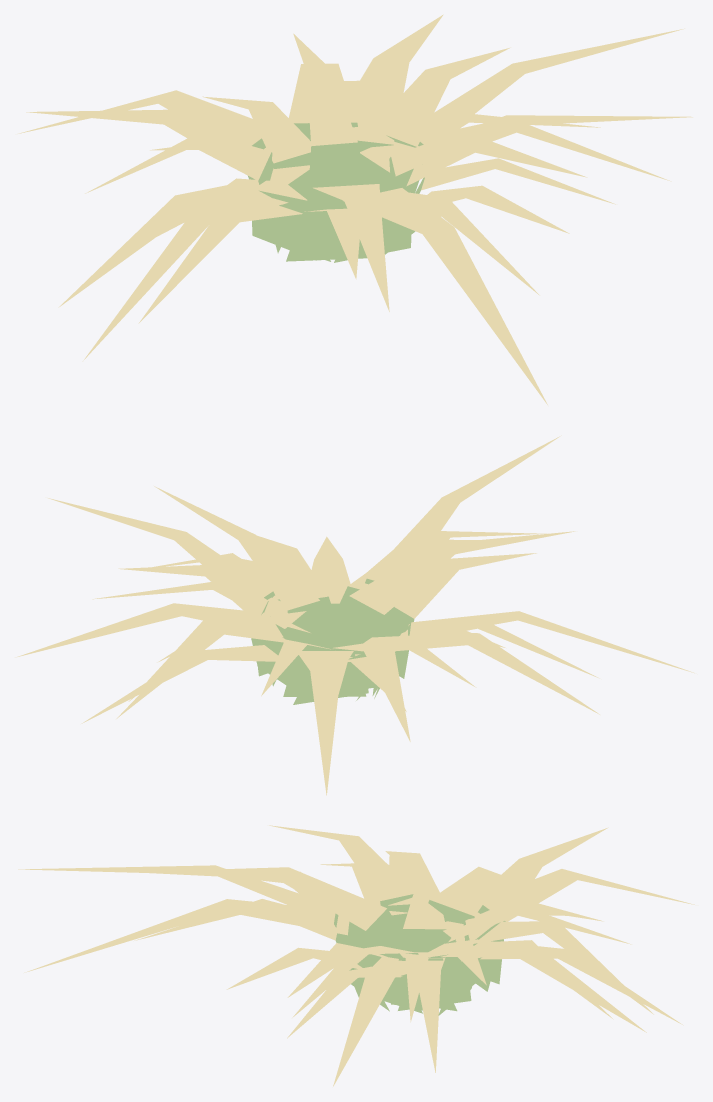
File: Blender_Tussock_2.glb
The picture shows the model from 3 angles, top to bottom: view 1: azimuth 30°, elevation 25°; view 2: azimuth 150°, elevation 25°; view 3: azimuth 270°, elevation 25°; orthographic projection. The views are drawn at different scales.
Visible parts, largest first — view 1: Blender_Tussock_2; view 2: Blender_Tussock_2; view 3: Blender_Tussock_2.
Boxes of the visible parts, x1=… form: Blender_Tussock_2: x1=18, y1=14, x2=692, y2=404; Blender_Tussock_2: x1=15, y1=435, x2=694, y2=795; Blender_Tussock_2: x1=18, y1=825, x2=694, y2=1086.
Bounding box in the file's own units: 1.16 × 0.2015 × 1.18.
